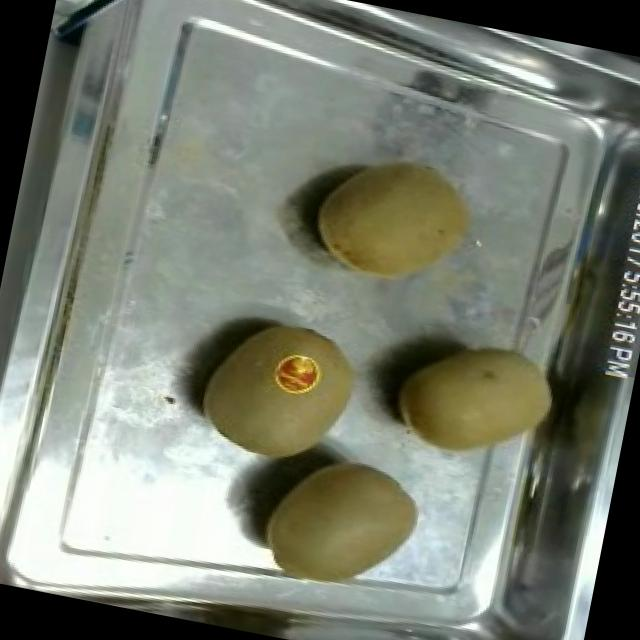Fruit: (183, 300, 378, 484), (294, 135, 493, 304), (375, 318, 574, 487), (247, 438, 435, 608)
